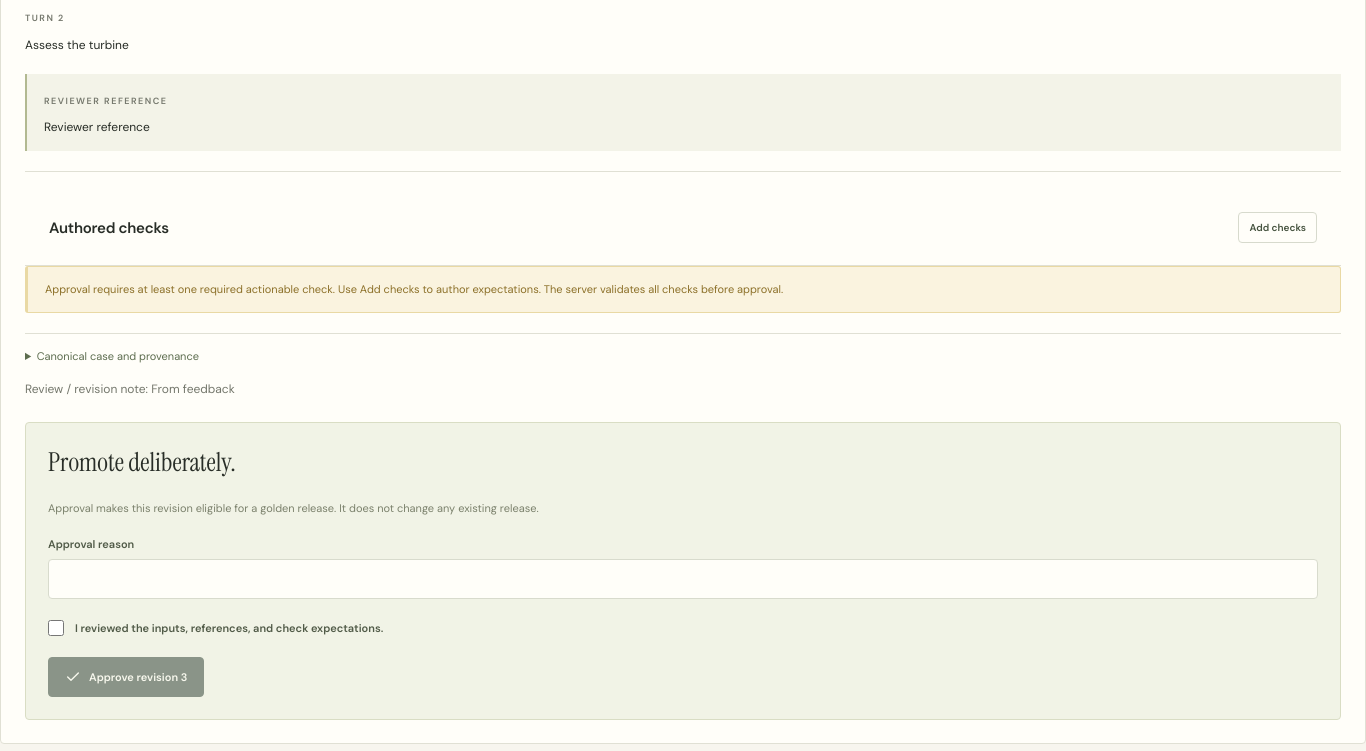
checks authoring from review › blocks approval without required actionable checks ([])
(page scrolled)
Type "Reviewed" into the field labelled "Approval reason" at (683, 579), box [48,559,1318,599]
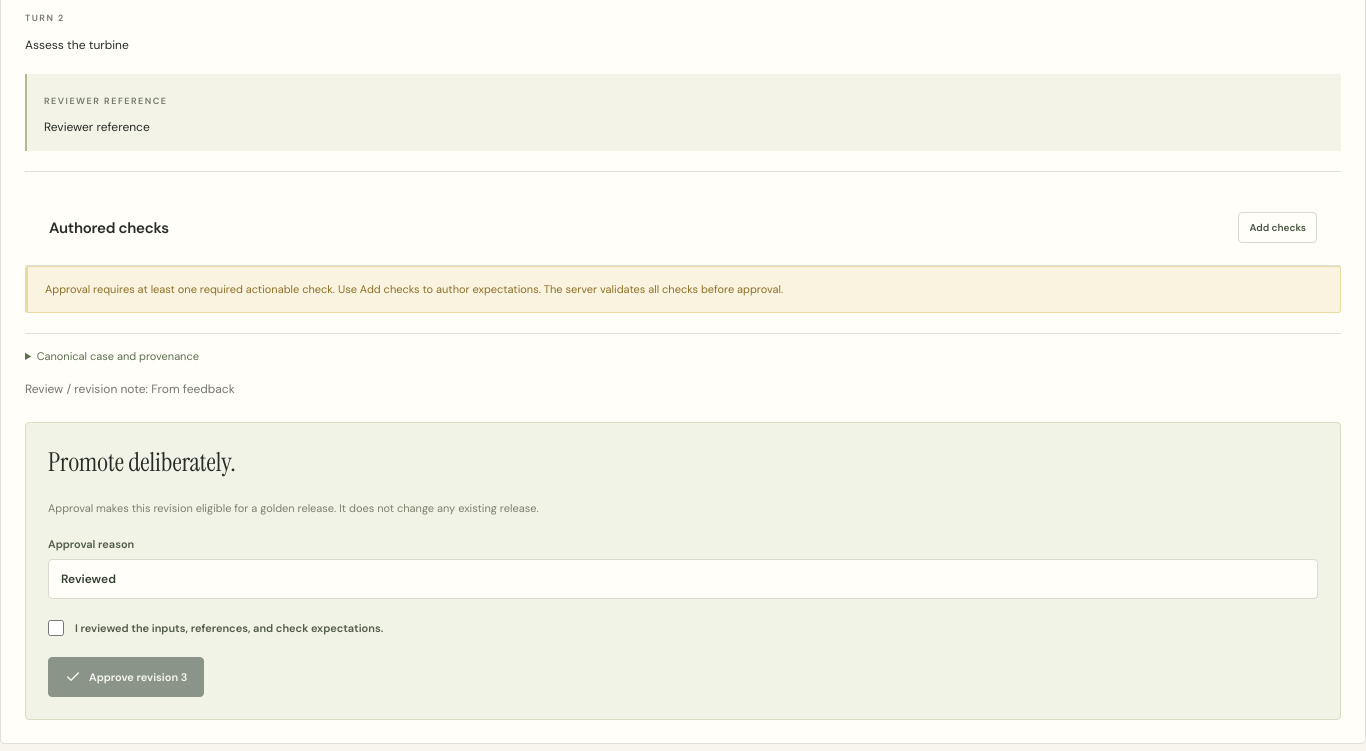
Click the checkbox labelled "I reviewed the inputs, references, and check expectations." at (56, 628), box [48,620,64,636]
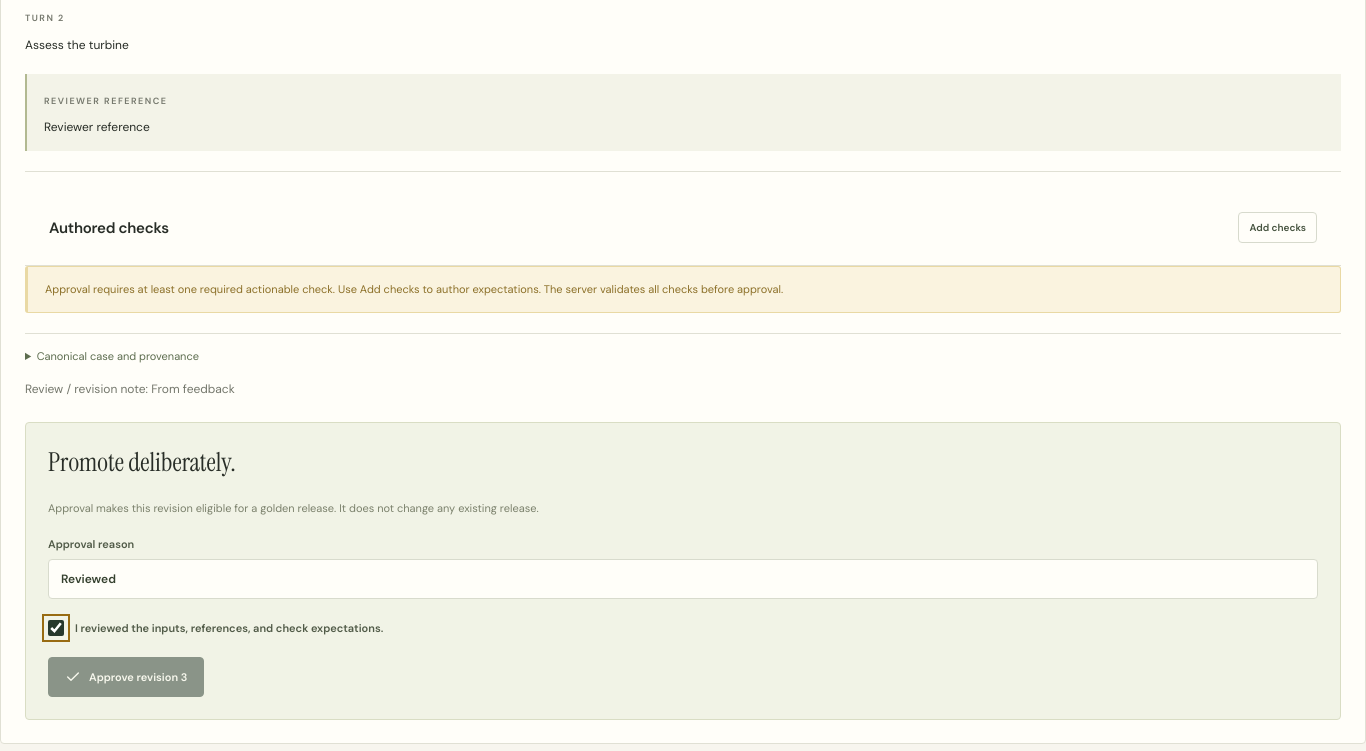
Expected: the button "Approve revision 3" is disabled, [48,657,204,697]
Expected: the text "Approval requires at least one required actionable check" is shown, [45,282,335,296]
Submit the form named "Approve revision 3", box [25,422,1341,720]
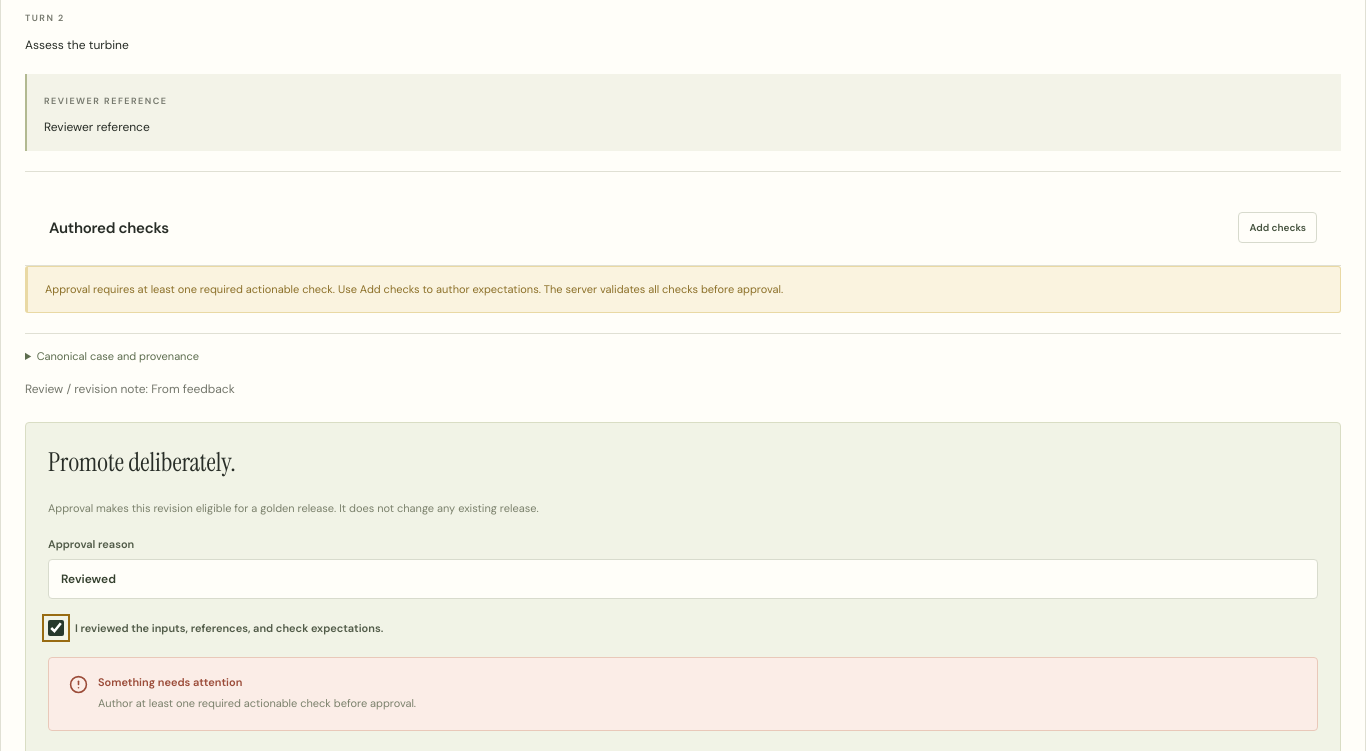
Result: the message that starts with "Something needs attention" is shown at [48,657,1318,730]
